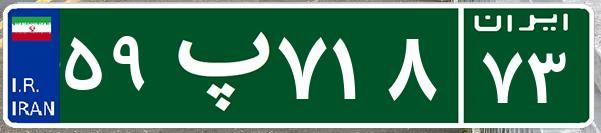1: (330, 28, 385, 110)
3: (525, 38, 570, 115)
5: (57, 26, 110, 107)
7: (273, 28, 330, 110), (475, 38, 525, 113)
8: (385, 28, 445, 110)
9: (110, 28, 158, 105)
پ: (158, 15, 273, 115)
